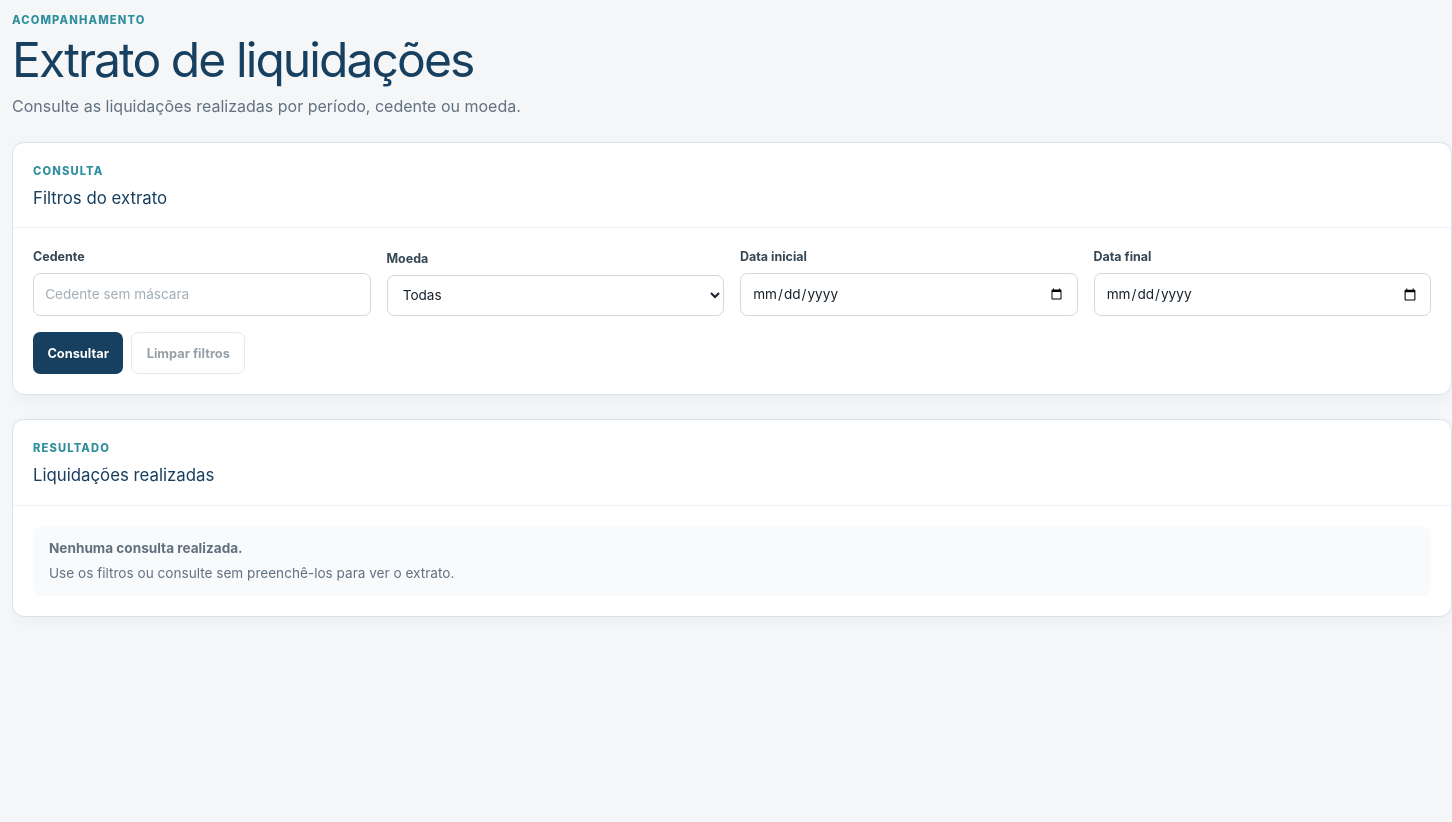
Test: SettlementsPageComponent › shows an API error
Click the submit button at point(78, 353), box x1=33 y1=332 x2=123 y2=374
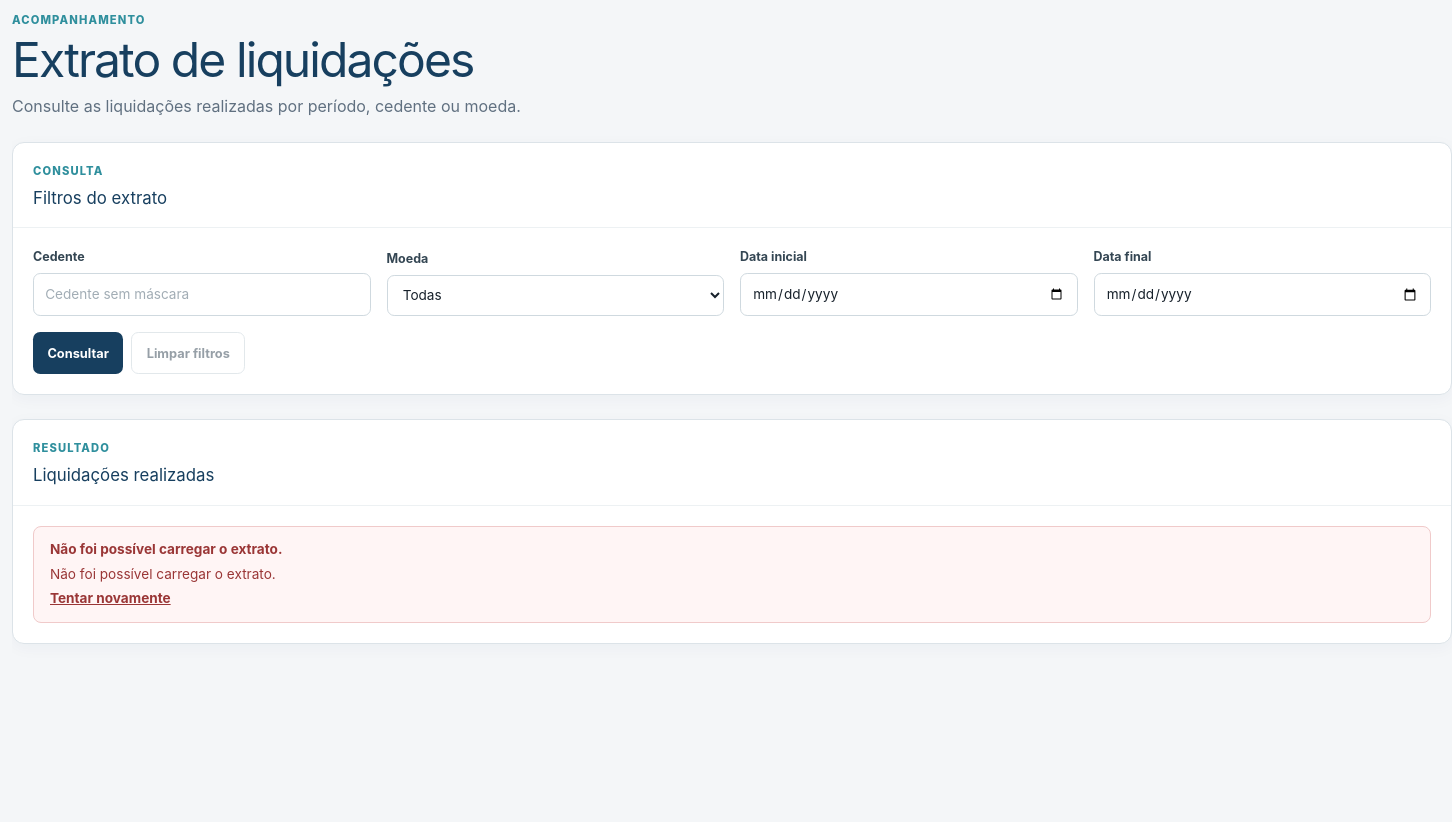
Now the text "Não foi possível carregar o extrato." is shown, box x1=50 y1=541 x2=282 y2=557
